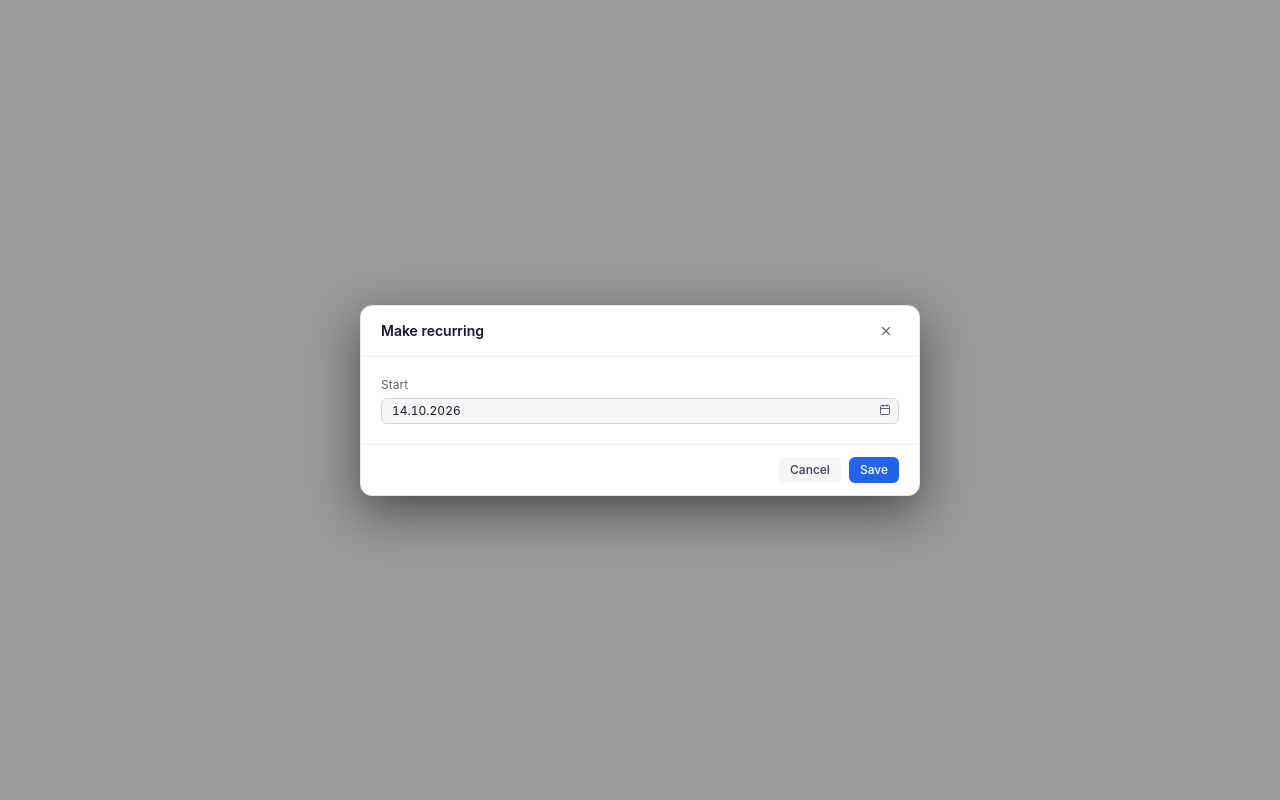
Test: FormModal with an invalid date › Enter on unparseable text doesn't submit and flags the field
This screenshot has width=1280, height=800.
Replace the text in the field labelled "Start" with "31.02.2026". click: [640, 410]
box: x1=381 y1=398 x2=899 y2=424
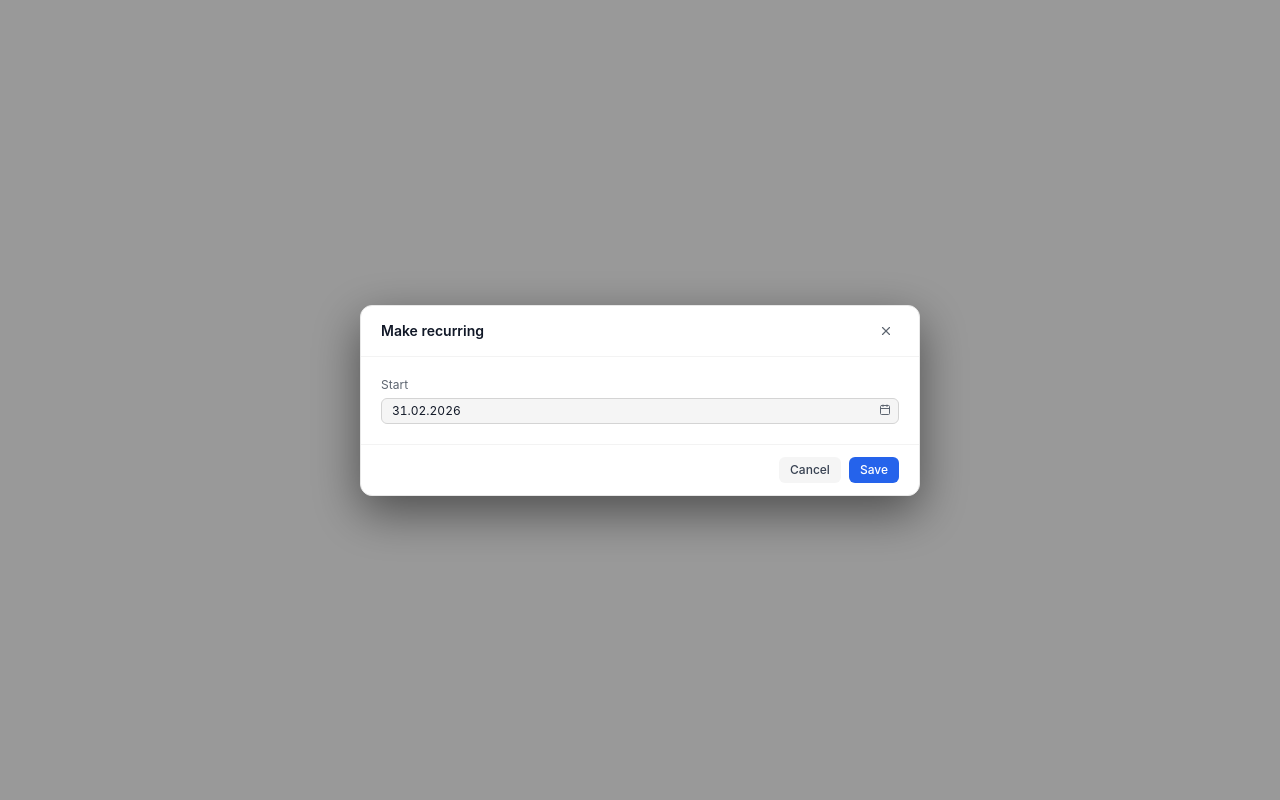
Press Enter in the field labelled "Start", box x1=381 y1=398 x2=899 y2=424
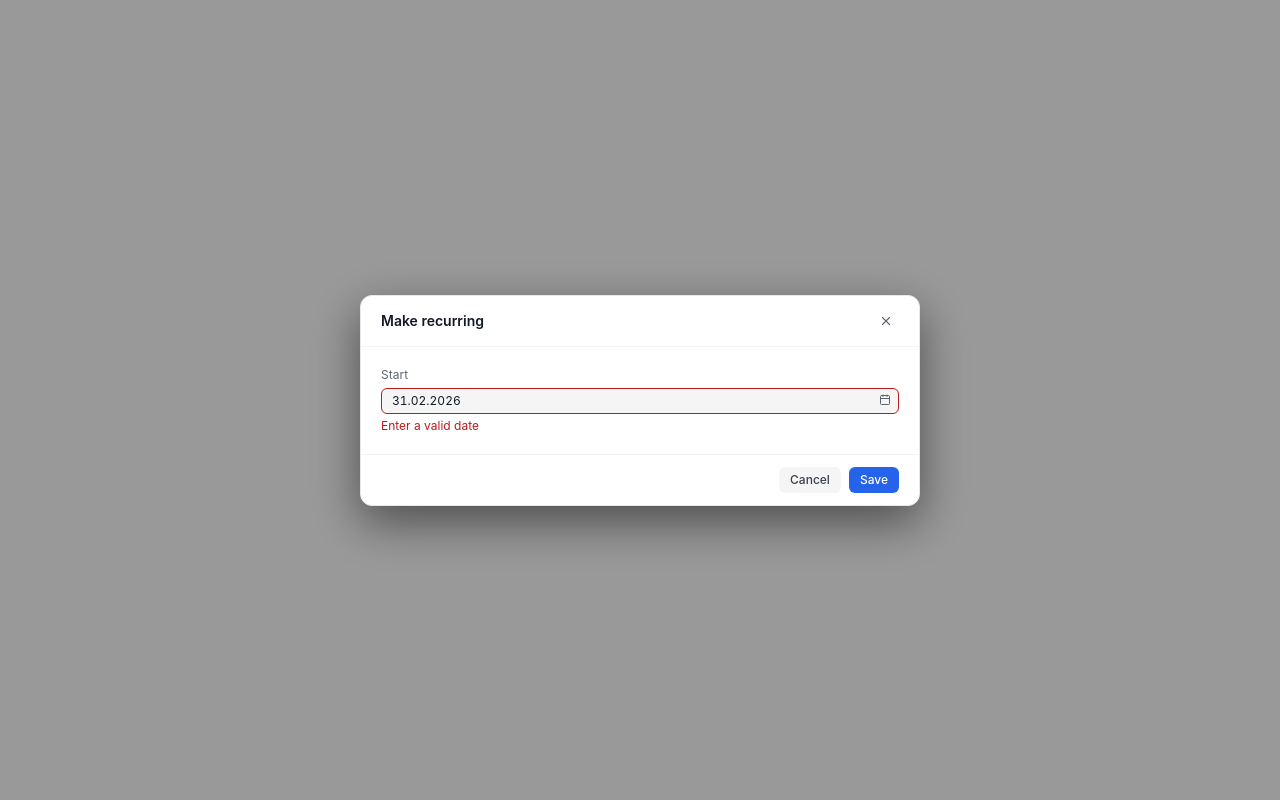
Result: the text "Enter a valid date" is shown at x1=381 y1=418 x2=479 y2=432
